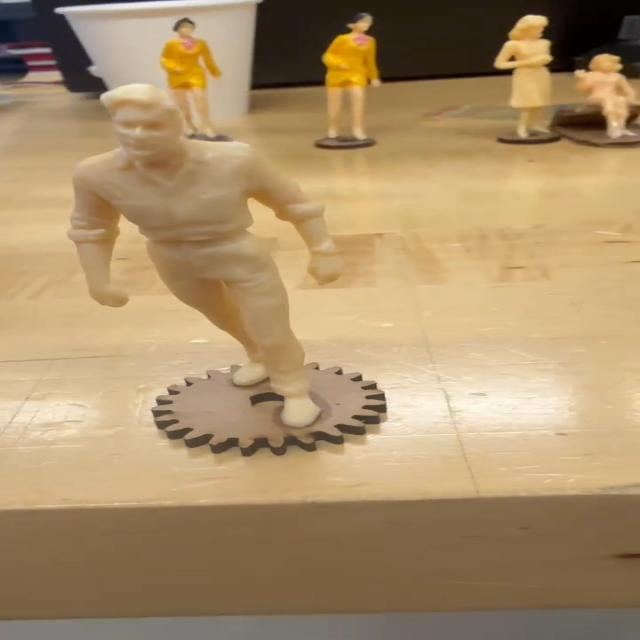Unauthorized: (57, 73, 360, 423)
